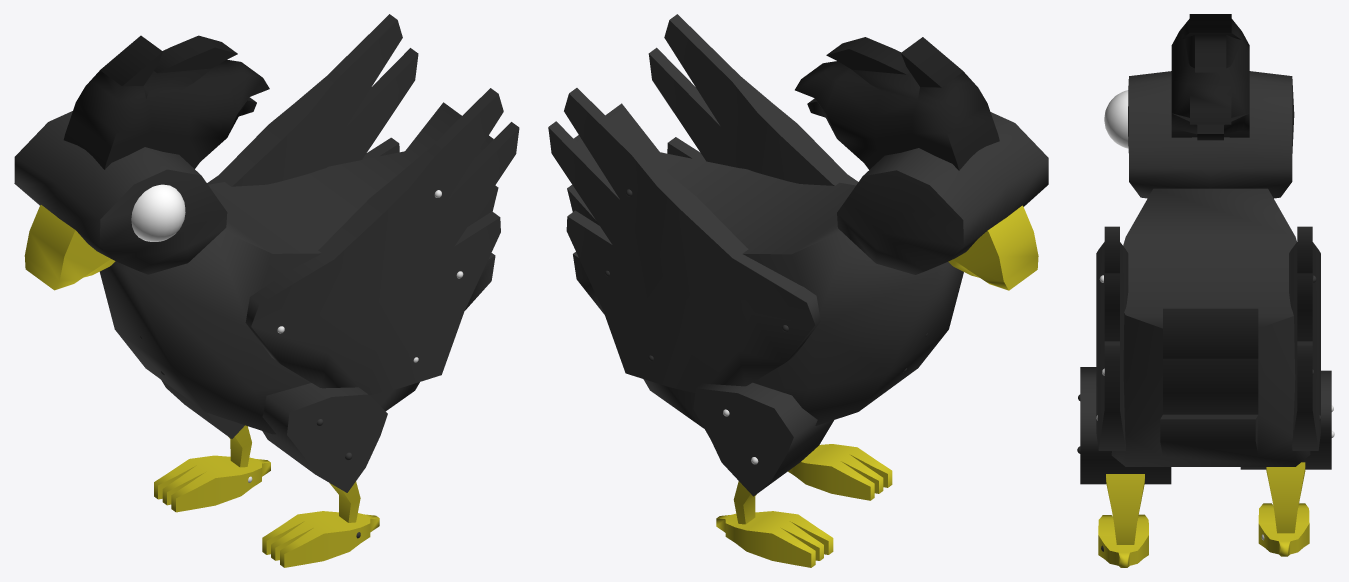
Rendered from Cuckoo.fbx.
The picture shows the model from 3 angles, left to right: view 1: azimuth 30°, elevation 25°; view 2: azimuth 150°, elevation 25°; view 3: azimuth 270°, elevation 25°; orthographic projection. The views are drawn at different scales.
Visible parts, largest first — view 1: ALA_2, CUERPO, COPETE, CABEZA, ALA, MUSLO_2, PATA_2, PATA, PICO_2, OJO, MUSLO, PIERNA_2 (+1 smaller); view 2: ALA, CUERPO, CABEZA, COPETE, ALA_2, MUSLO, PATA, PICO_2, PATA_2, PIERNA; view 3: CUERPO, CABEZA, COPETE, ALA_2, ALA, MUSLO_2, PIERNA_2, PIERNA, PATA, PATA_2, MUSLO, OJO.
Part boxes in pixels (x1,y1,x2,y2): ALA_2: (245, 88, 519, 395); CUERPO: (100, 102, 498, 434); COPETE: (63, 35, 269, 169); CABEZA: (14, 111, 227, 274); ALA: (207, 14, 418, 186); MUSLO_2: (262, 383, 387, 492); PATA_2: (262, 511, 379, 567); PATA: (154, 455, 270, 512); PICO_2: (24, 205, 110, 290); OJO: (131, 184, 185, 241); MUSLO: (161, 380, 244, 438); PIERNA_2: (329, 481, 360, 522); ALA: (548, 88, 820, 392); CUERPO: (567, 103, 963, 428); CABEZA: (837, 112, 1048, 274); COPETE: (795, 37, 999, 170); ALA_2: (648, 14, 858, 185); MUSLO: (693, 382, 833, 496); PATA: (716, 511, 833, 567); PICO_2: (953, 205, 1038, 290); PATA_2: (788, 444, 892, 500); PIERNA: (733, 481, 756, 524); CUERPO: (1111, 188, 1310, 466); CABEZA: (1128, 71, 1294, 198); COPETE: (1171, 14, 1249, 140); ALA_2: (1096, 226, 1128, 450); ALA: (1289, 226, 1320, 450); MUSLO_2: (1080, 367, 1171, 484); PIERNA_2: (1106, 474, 1144, 544); PIERNA: (1266, 462, 1305, 533); PATA: (1258, 503, 1309, 556); PATA_2: (1098, 514, 1148, 567); MUSLO: (1240, 370, 1331, 469); OJO: (1104, 90, 1128, 148).
Bounding box in the file's own units: 562 × 623 × 303.
